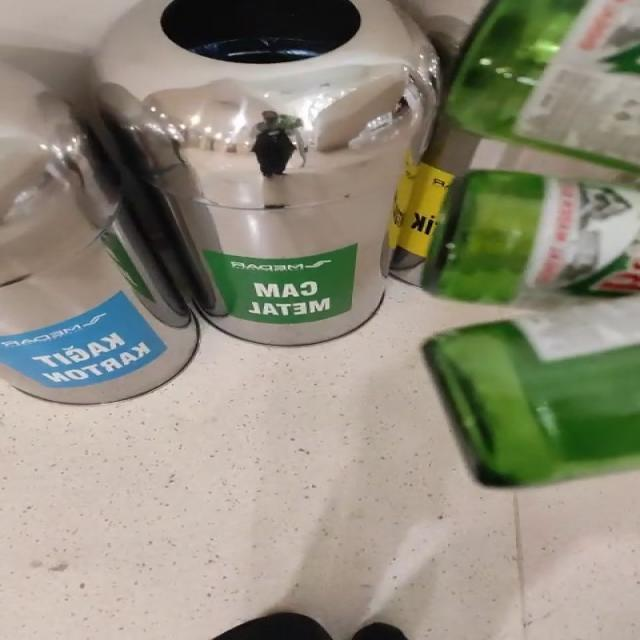Bin: (95, 0, 437, 345)
Glass: (424, 170, 640, 487), (445, 0, 640, 170)
